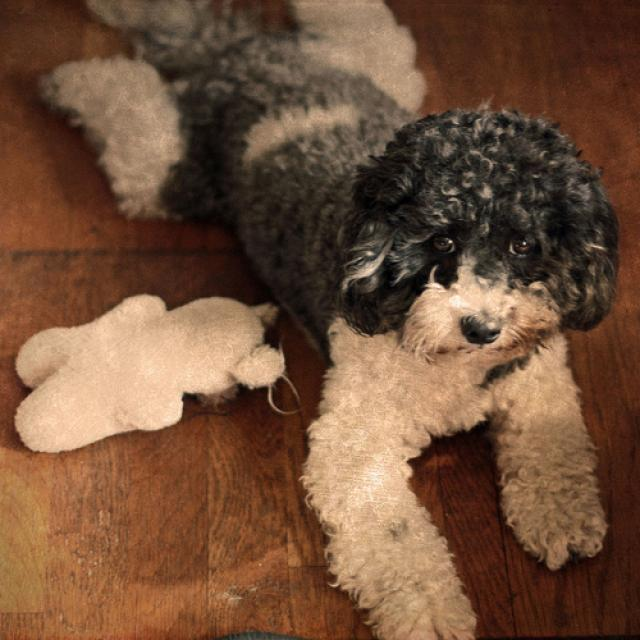dog-havanese: (35, 1, 630, 637)
